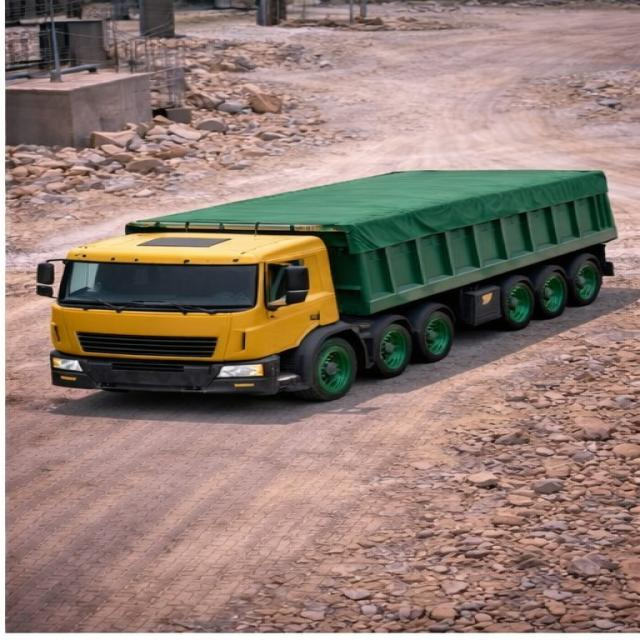Box: (125, 168, 607, 230)
Truck: (35, 154, 634, 403)
